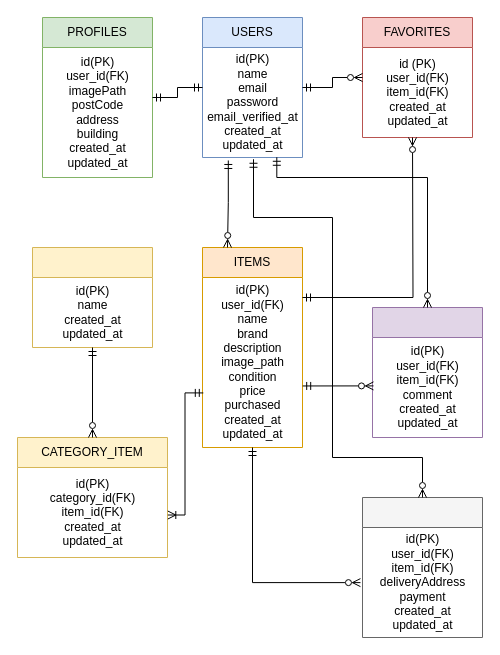
Some shapes in this 500 by 655 pixel diagram are drawn without their labels. Each missing label, with the box of its shape:
CATEGORIES: (32, 246, 152, 348)
COMMENTS: (372, 306, 482, 438)
PURCHASES: (362, 496, 482, 638)
